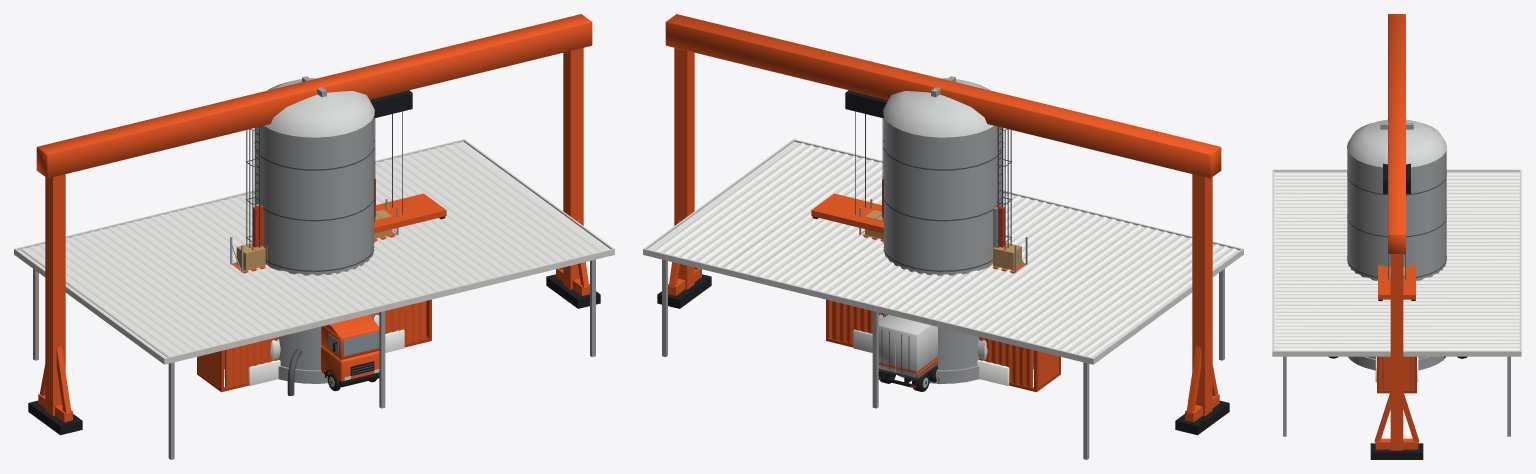
The model's file is assets.glb.
3 renders of one model, left to right at view 1: azimuth 30°, elevation 25°; view 2: azimuth 150°, elevation 25°; view 3: azimuth 270°, elevation 25°, orthographic. The views are drawn at different scales.
Visible parts, largest first — view 1: asset_canopy__white, asset_gantry_crane__orange, asset_silo__gray, asset_canopy__offwhite, asset_silo__lightgray, asset_container_orange__orange, asset_canopy__gray, asset_truck_box__orange, asset_gantry_crane__black, asset_silo__darkgray, asset_condenser__white, asset_rack__cardboard (+3 smaller); view 2: asset_canopy__white, asset_gantry_crane__orange, asset_silo__gray, asset_canopy__offwhite, asset_silo__lightgray, asset_container_orange__orange, asset_truck_box__lightgray, asset_canopy__gray, asset_gantry_crane__black, asset_silo__darkgray, asset_condenser__white, asset_rack__cardboard (+2 smaller); view 3: asset_canopy__white, asset_silo__gray, asset_gantry_crane__orange, asset_silo__lightgray, asset_canopy__offwhite, asset_gantry_crane__black, asset_container_orange__orange, asset_canopy__gray, asset_silo__darkgray, asset_container_orange__orange_dark.
Boxes of the visible parts, bbox=[...] form: asset_canopy__white: bbox=[19, 141, 610, 357]; asset_gantry_crane__orange: bbox=[36, 14, 592, 422]; asset_silo__gray: bbox=[256, 117, 373, 383]; asset_canopy__offwhite: bbox=[14, 139, 614, 364]; asset_silo__lightgray: bbox=[264, 78, 374, 137]; asset_container_orange__orange: bbox=[199, 300, 427, 387]; asset_canopy__gray: bbox=[33, 259, 595, 459]; asset_truck_box__orange: bbox=[321, 315, 379, 384]; asset_gantry_crane__black: bbox=[28, 90, 600, 435]; asset_silo__darkgray: bbox=[245, 127, 374, 395]; asset_condenser__white: bbox=[248, 329, 404, 385]; asset_rack__cardboard: bbox=[236, 209, 392, 270]; asset_canopy__white: bbox=[647, 141, 1238, 357]; asset_gantry_crane__orange: bbox=[665, 14, 1221, 422]; asset_silo__gray: bbox=[884, 117, 1001, 383]; asset_canopy__offwhite: bbox=[643, 139, 1243, 364]; asset_silo__lightgray: bbox=[883, 78, 993, 137]; asset_container_orange__orange: bbox=[830, 300, 1058, 387]; asset_truck_box__lightgray: bbox=[878, 314, 937, 377]; asset_canopy__gray: bbox=[662, 259, 1224, 459]; asset_gantry_crane__black: bbox=[657, 90, 1229, 435]; asset_silo__darkgray: bbox=[883, 127, 1012, 271]; asset_condenser__white: bbox=[853, 329, 1009, 385]; asset_rack__cardboard: bbox=[865, 210, 1021, 270]; asset_canopy__white: bbox=[1274, 171, 1519, 350]; asset_silo__gray: bbox=[1347, 150, 1446, 370]; asset_gantry_crane__orange: bbox=[1374, 14, 1419, 450]; asset_silo__lightgray: bbox=[1347, 119, 1446, 167]; asset_canopy__offwhite: bbox=[1272, 169, 1521, 356]; asset_gantry_crane__black: bbox=[1370, 163, 1423, 459]; asset_container_orange__orange: bbox=[1379, 356, 1414, 390]; asset_canopy__gray: bbox=[1283, 356, 1510, 436]; asset_silo__darkgray: bbox=[1347, 173, 1446, 277]; asset_container_orange__orange_dark: bbox=[1377, 356, 1416, 393].
Size of the model in its own units: 31.6 by 15.15 by 15.1.
